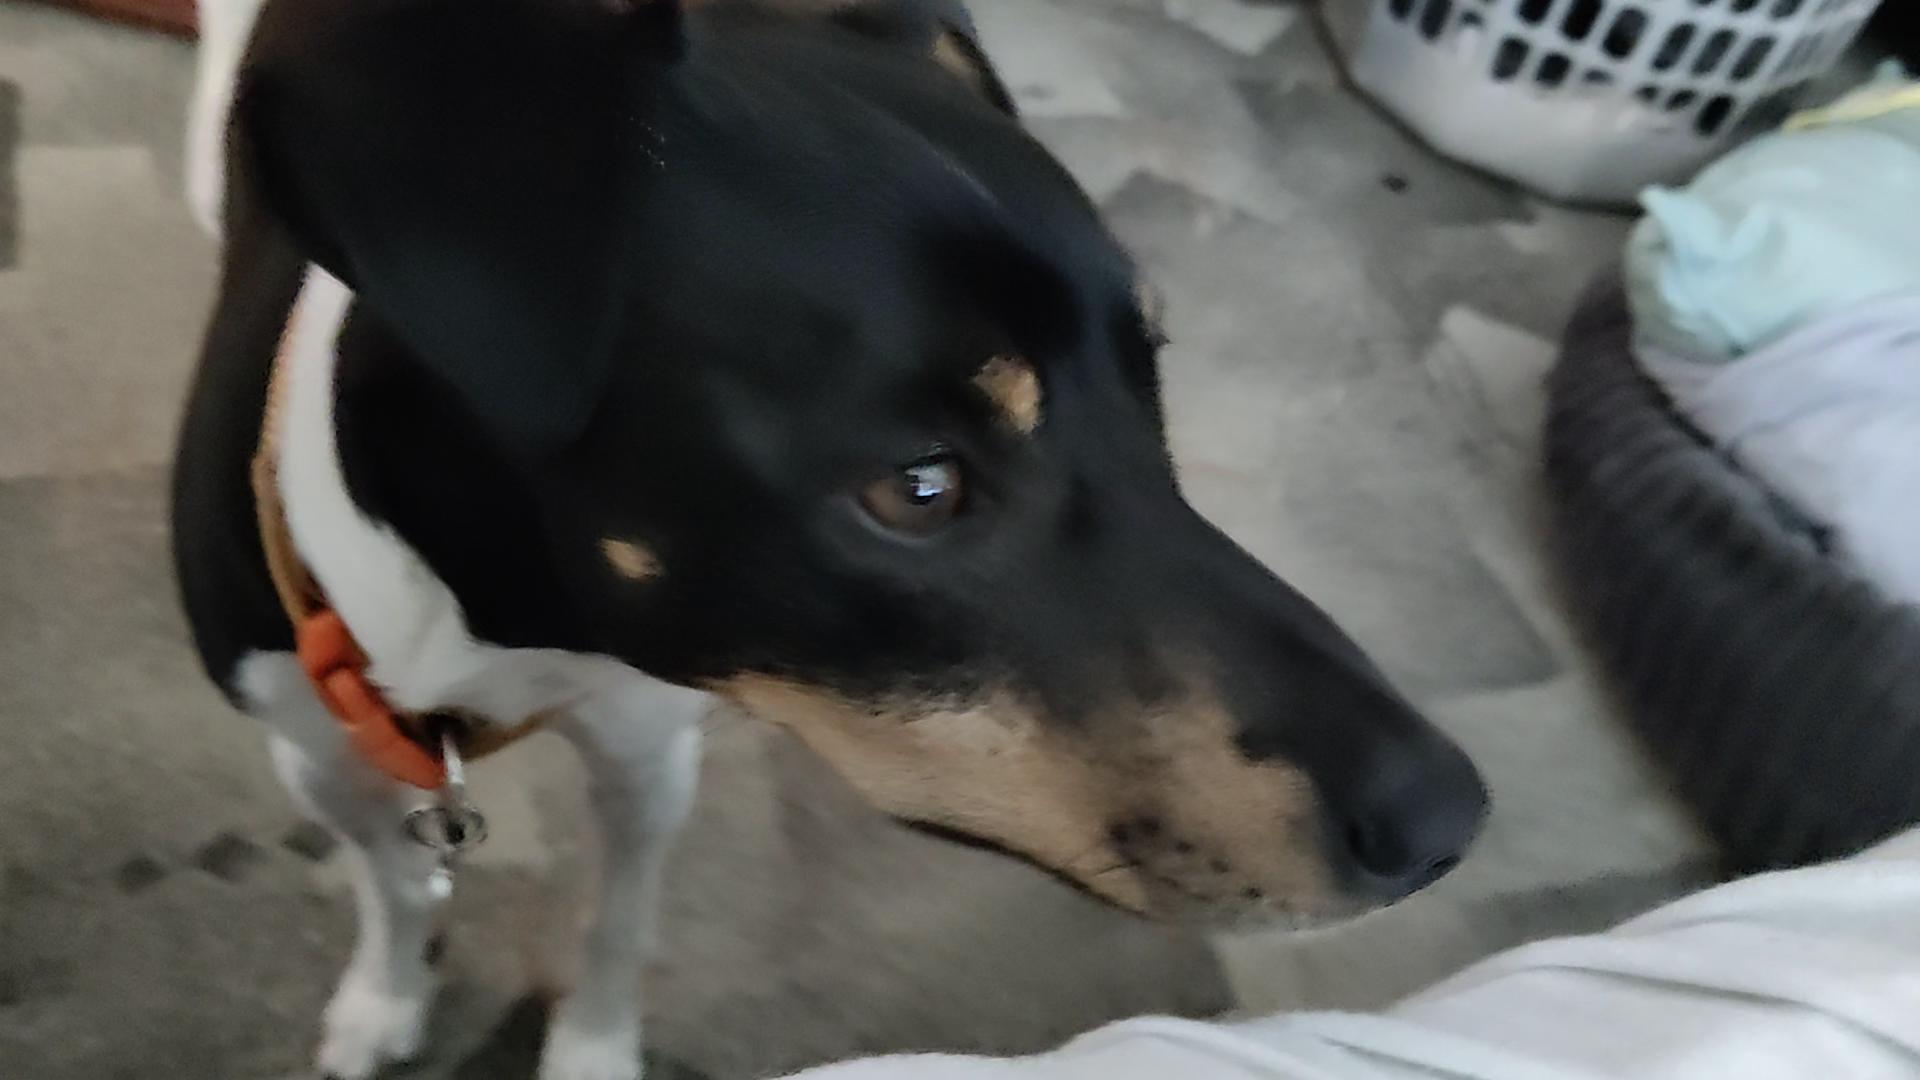Dog: (158, 0, 1501, 1079)
